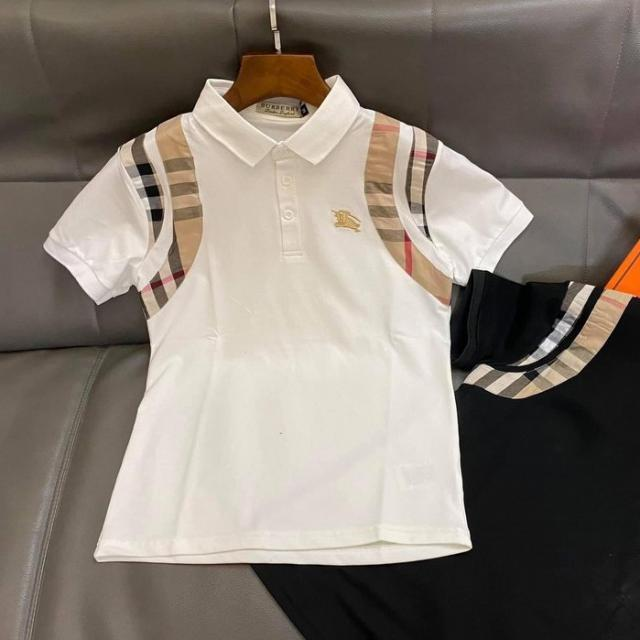Shirt: (36, 69, 542, 572)
